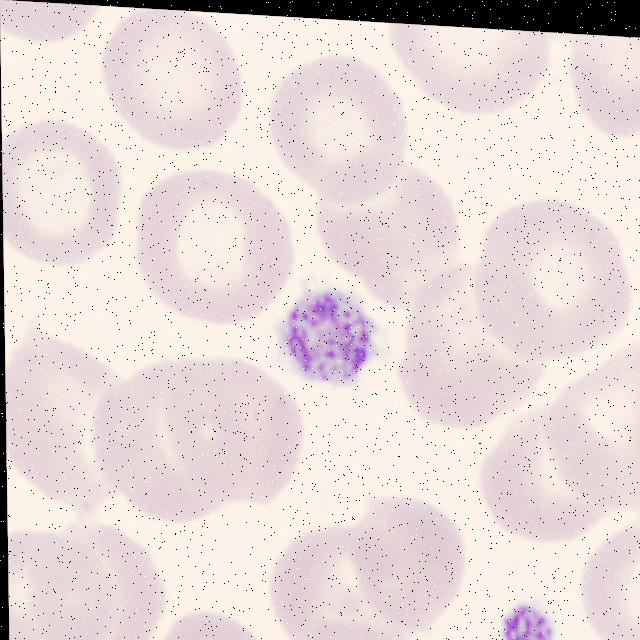platelets: (272, 281, 382, 391), (490, 600, 556, 640)
rbc: (315, 144, 487, 318), (132, 152, 295, 331), (388, 270, 543, 450), (476, 195, 635, 368), (5, 319, 135, 522), (94, 361, 246, 531), (476, 395, 633, 554), (263, 60, 411, 219), (101, 7, 250, 157), (165, 360, 308, 515), (341, 482, 481, 640), (2, 116, 126, 280), (265, 515, 427, 640), (27, 513, 174, 640), (389, 23, 559, 131), (550, 352, 640, 513), (8, 523, 125, 640), (562, 34, 640, 163), (578, 499, 640, 640), (0, 0, 110, 70), (276, 609, 426, 640), (149, 608, 277, 640)
